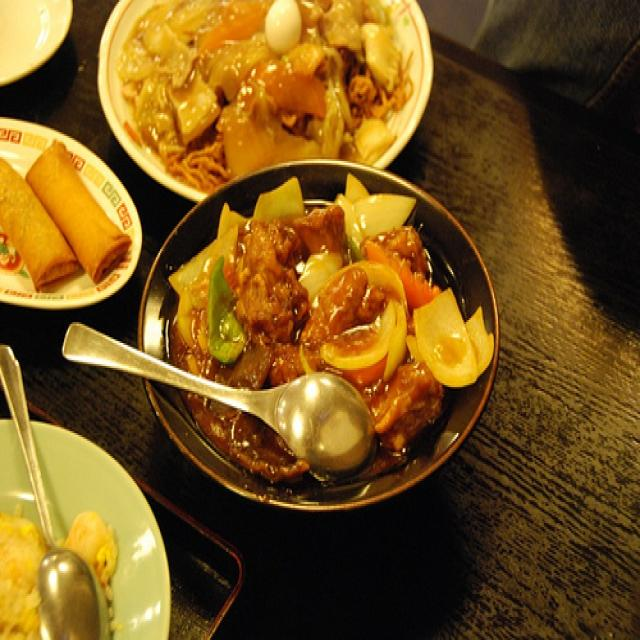猪肉菜式: (162, 170, 496, 487)
米饭主食: (0, 412, 168, 640)
面条主食: (87, 0, 434, 201)
鸡蛋料理: (0, 115, 145, 322)
